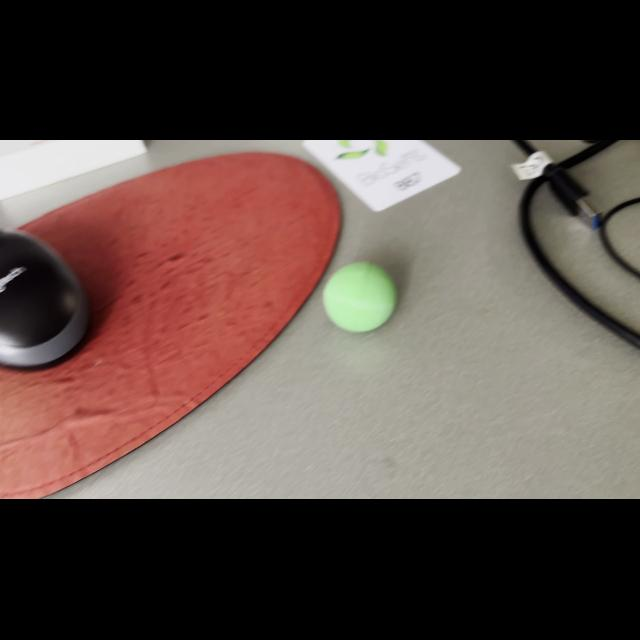objects: (314, 253, 406, 341)
